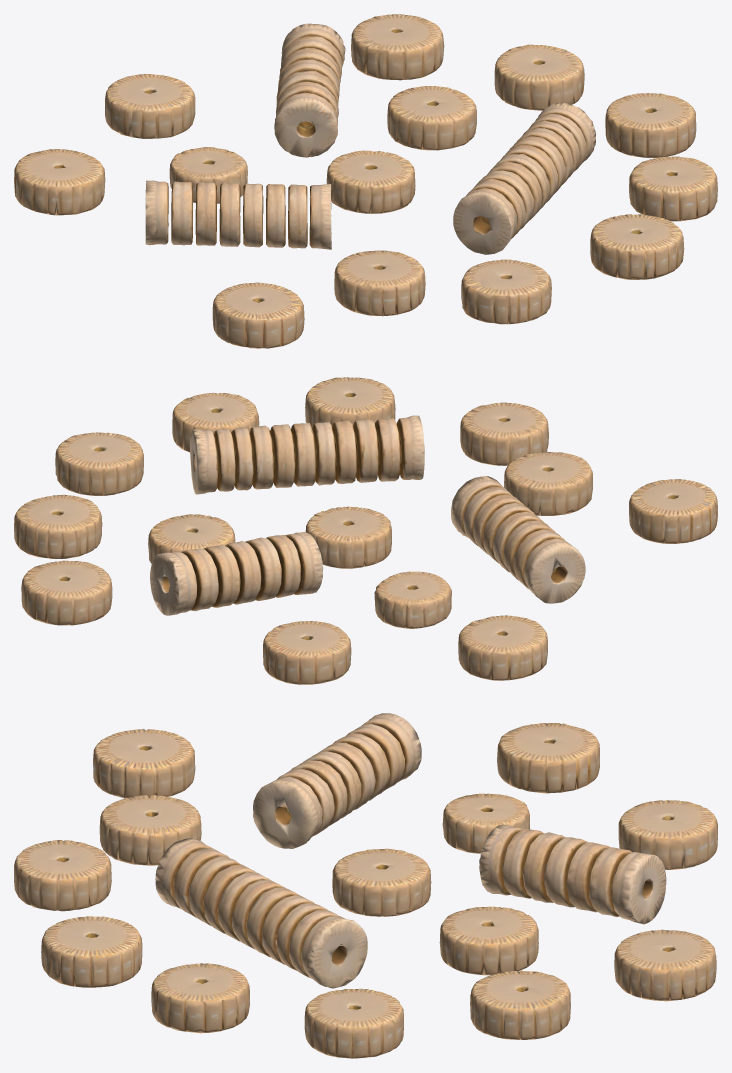
File: encrinus-litter.raw.glb
3 renders of one model, top to bottom at view 1: azimuth 30°, elevation 25°; view 2: azimuth 150°, elevation 25°; view 3: azimuth 270°, elevation 25°, orthographic. The views are drawn at different scales.
Visible parts, largest first — view 1: tripo_node_65136235-2e2f-4ad8-8a7e-7377b920c3f3; view 2: tripo_node_65136235-2e2f-4ad8-8a7e-7377b920c3f3; view 3: tripo_node_65136235-2e2f-4ad8-8a7e-7377b920c3f3.
Part boxes in pixels (<box>): tripo_node_65136235-2e2f-4ad8-8a7e-7377b920c3f3: <box>14,14,717,348</box>; tripo_node_65136235-2e2f-4ad8-8a7e-7377b920c3f3: <box>14,377,717,684</box>; tripo_node_65136235-2e2f-4ad8-8a7e-7377b920c3f3: <box>14,713,717,1058</box>.
Bounding box in the file's own units: 1 × 0.117 × 0.9681.
1 material, 1 textured.
